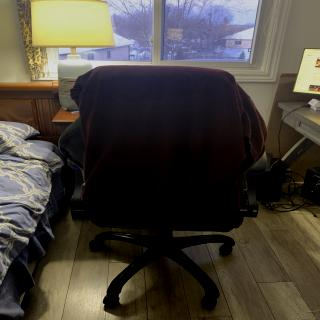Maroon T-Shirt: (77, 63, 259, 210)
